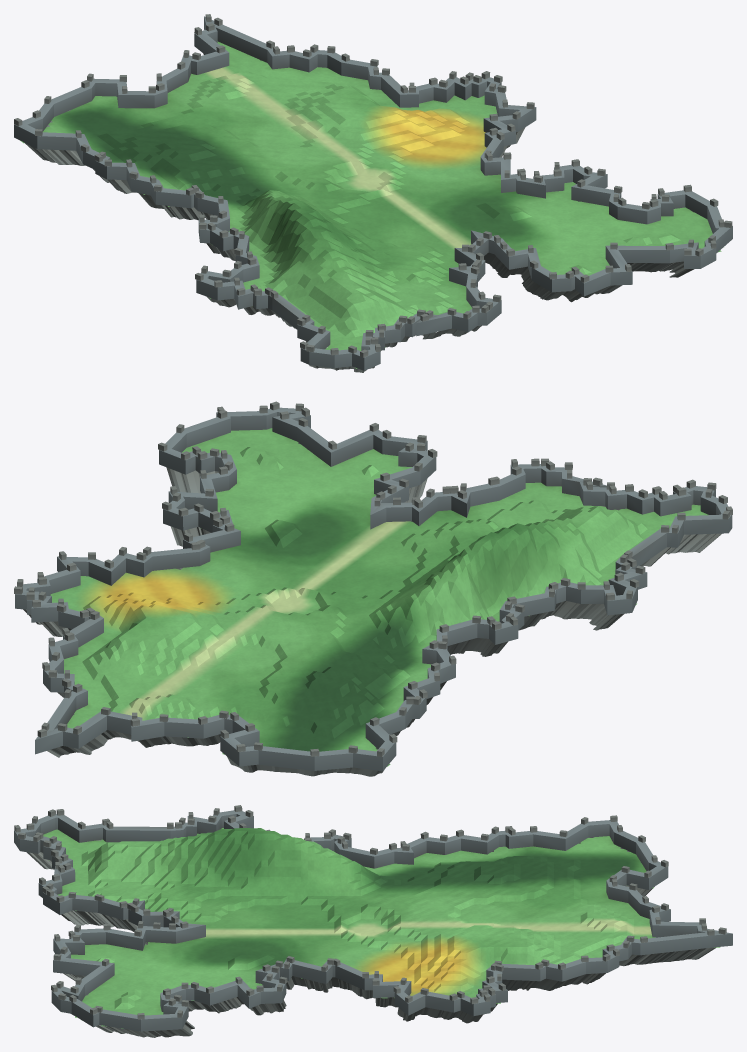
3 views of the same model, one above another, from view 1: azimuth 30°, elevation 25°; view 2: azimuth 150°, elevation 25°; view 3: azimuth 270°, elevation 25° (orthographic). The views are drawn at different scales.
Visible parts, largest first — view 1: ground_b79397b8; view 2: ground_b79397b8; view 3: ground_b79397b8.
Part boxes in pixels (x1,y1,x2,y2): ground_b79397b8: (14, 14, 732, 372); ground_b79397b8: (14, 401, 732, 776); ground_b79397b8: (14, 805, 732, 1037).
Bounding box in the file's own units: 112 × 14.43 × 162.
2 materials, 1 textured.
